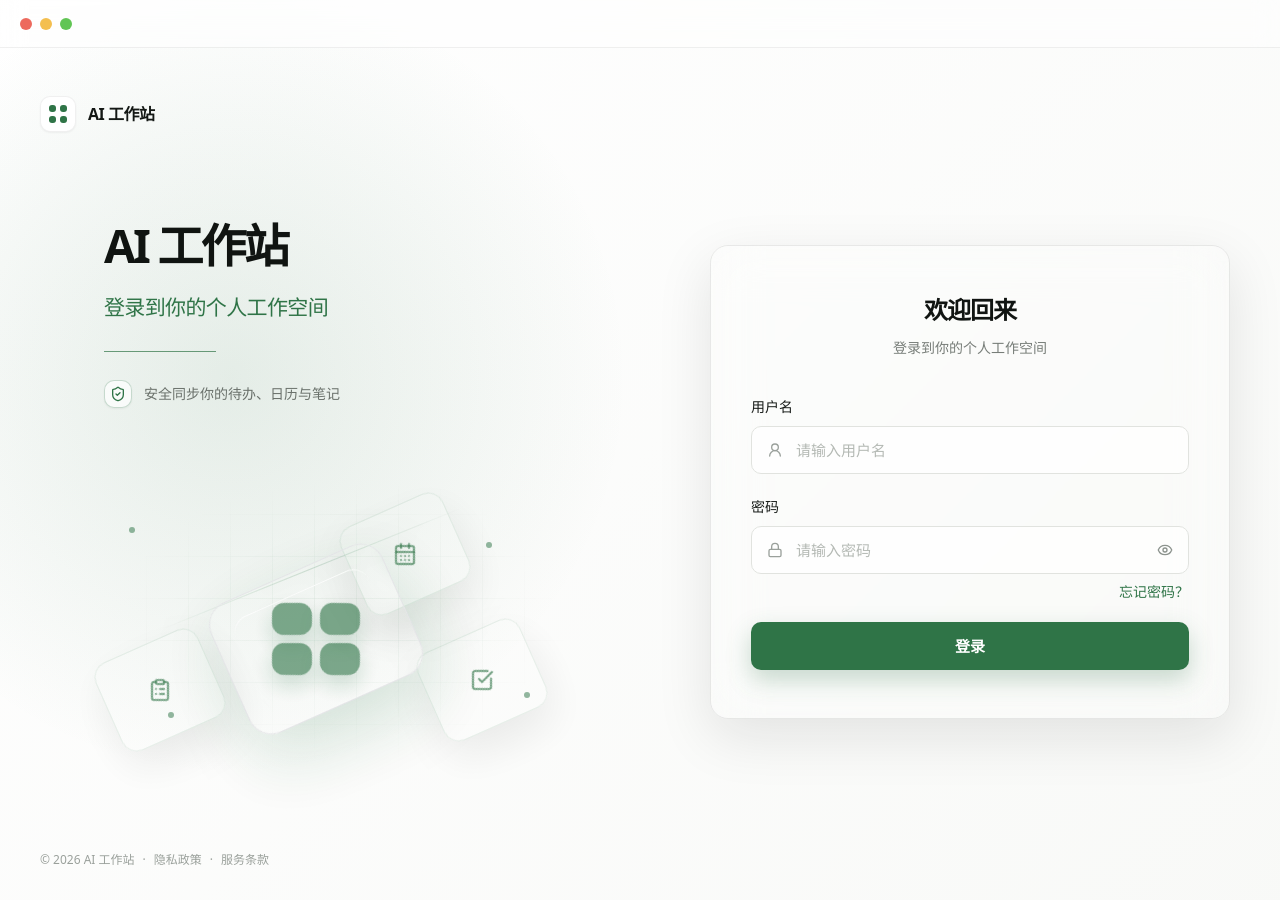
LoginForm › creates the session through the same-origin login endpoint
The image size is (1280, 900).
Type "mislw" into the field labelled "用户名". click: (970, 450)
box: top-left (751, 426), bottom-right (1189, 474)
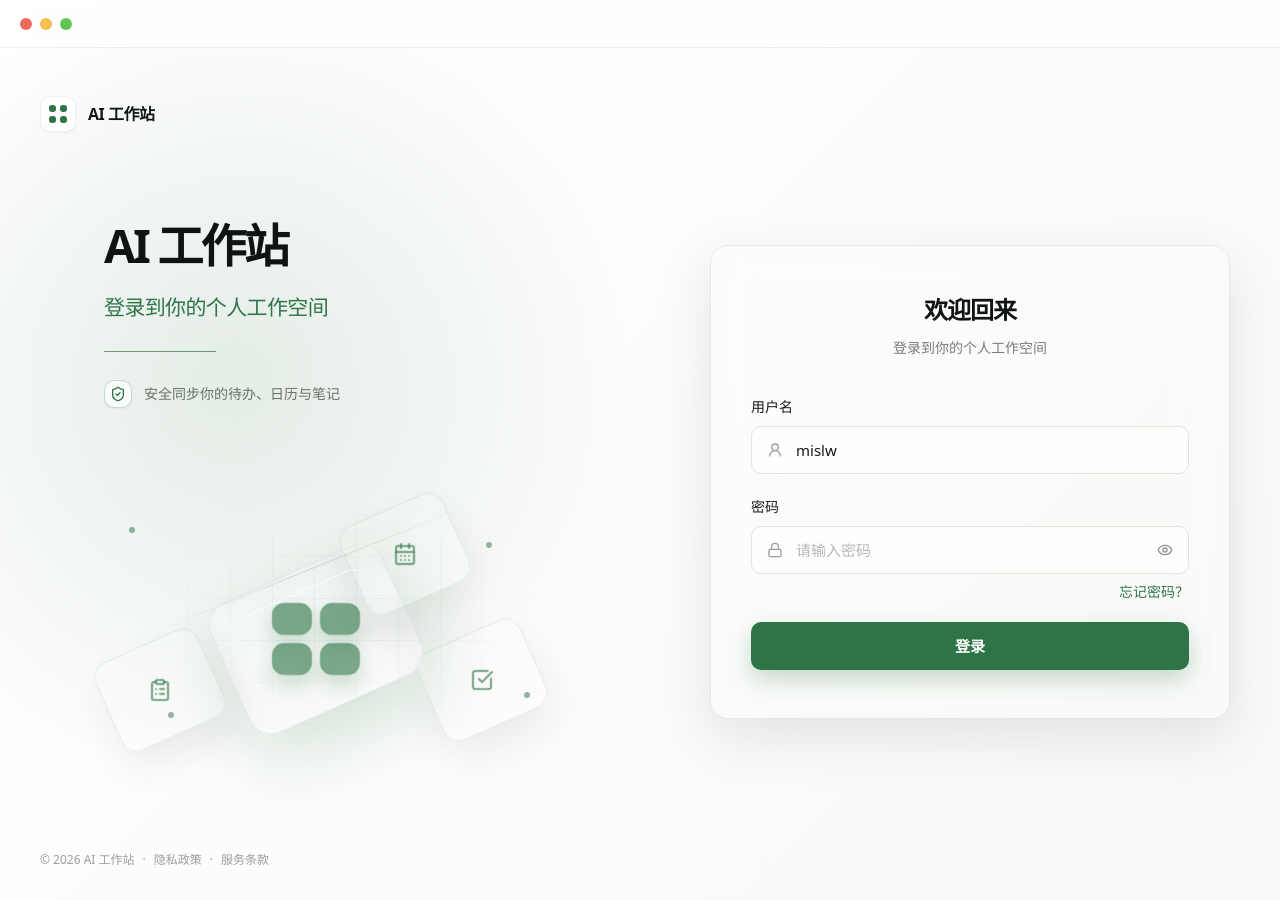
Type "correct-password" into the password field labelled "密码". click: (970, 550)
box: top-left (751, 526), bottom-right (1189, 574)
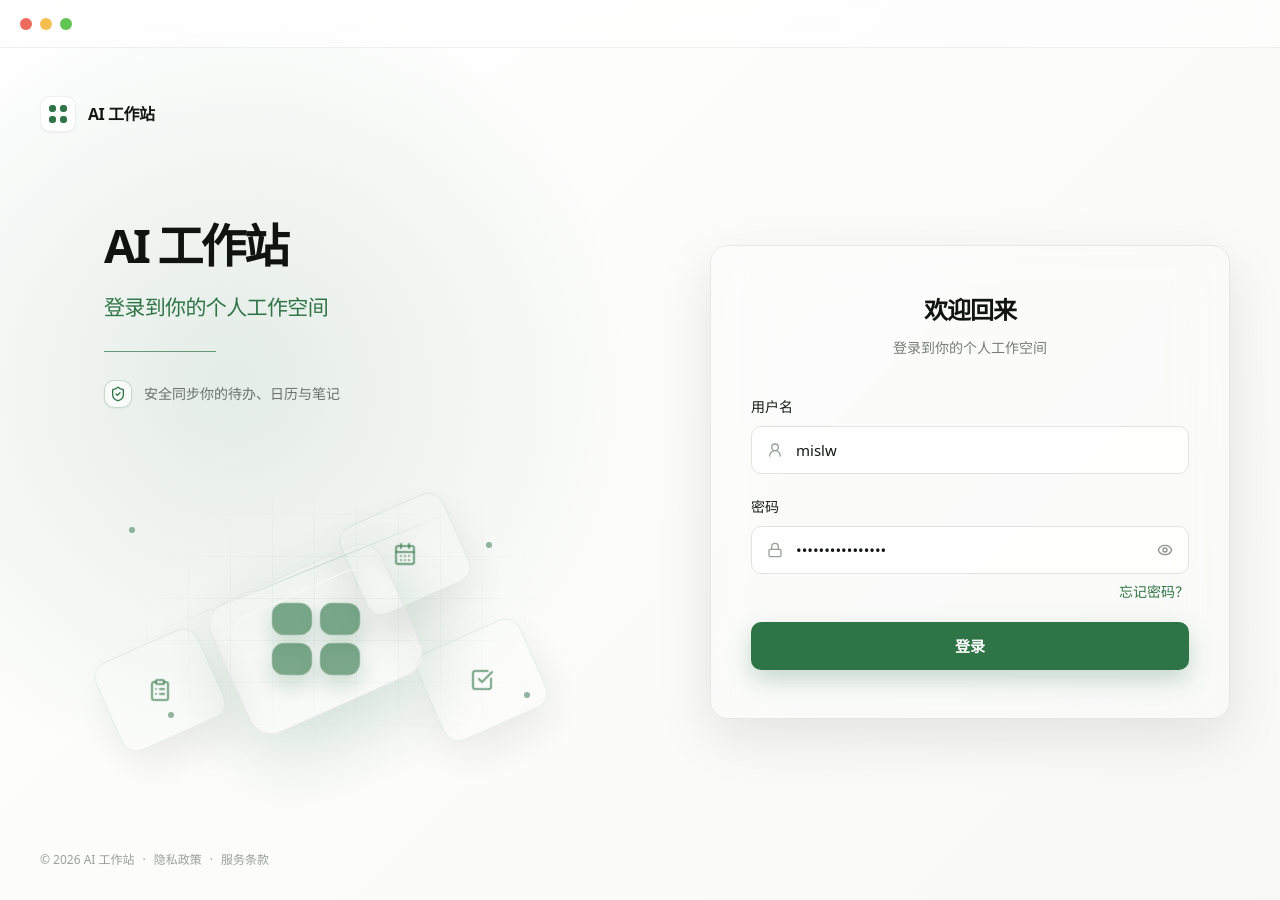
Click the button "登录". click: (970, 646)
box: top-left (751, 622), bottom-right (1189, 670)
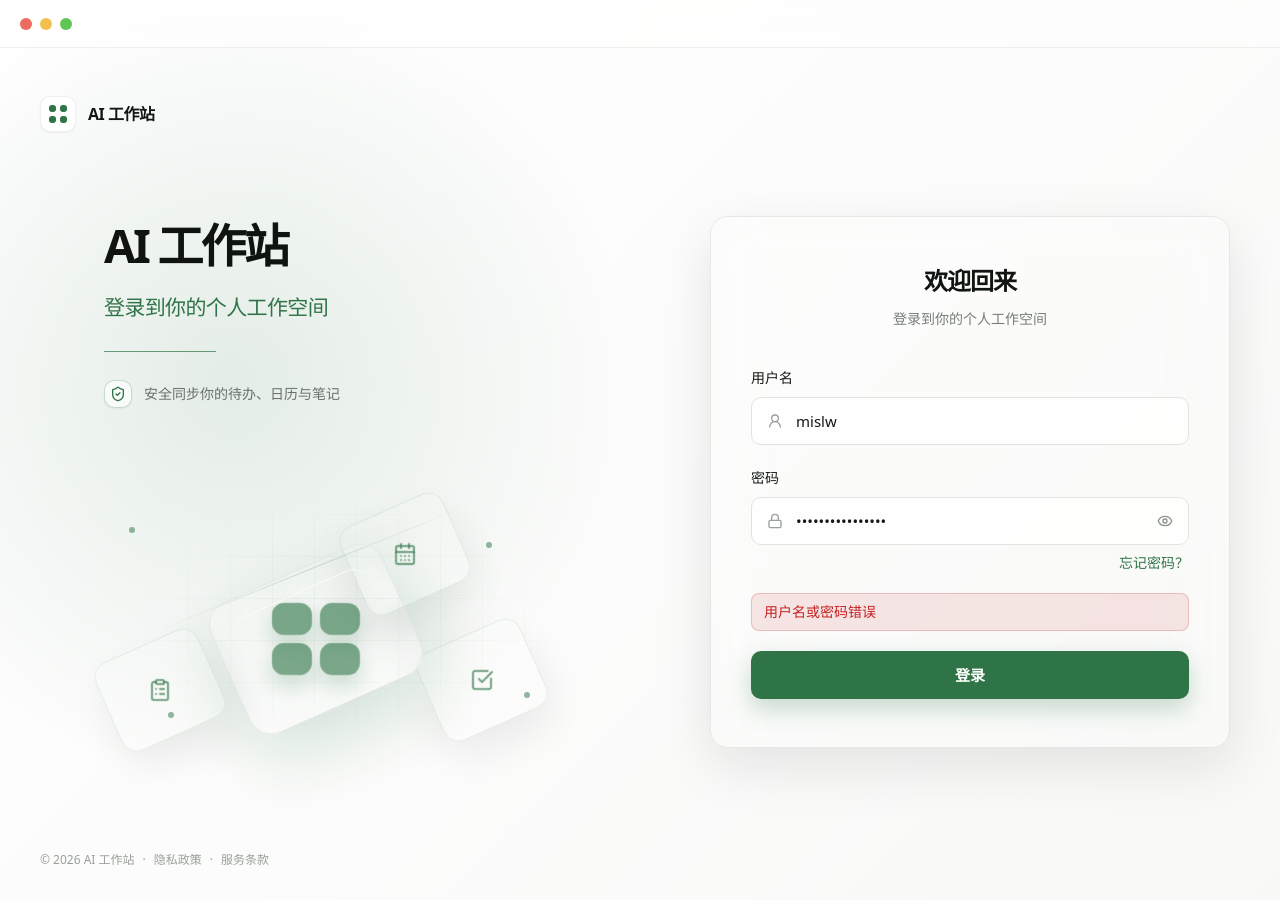
Expected: the message reads "用户名或密码错误", top-left (764, 602), bottom-right (876, 621)
